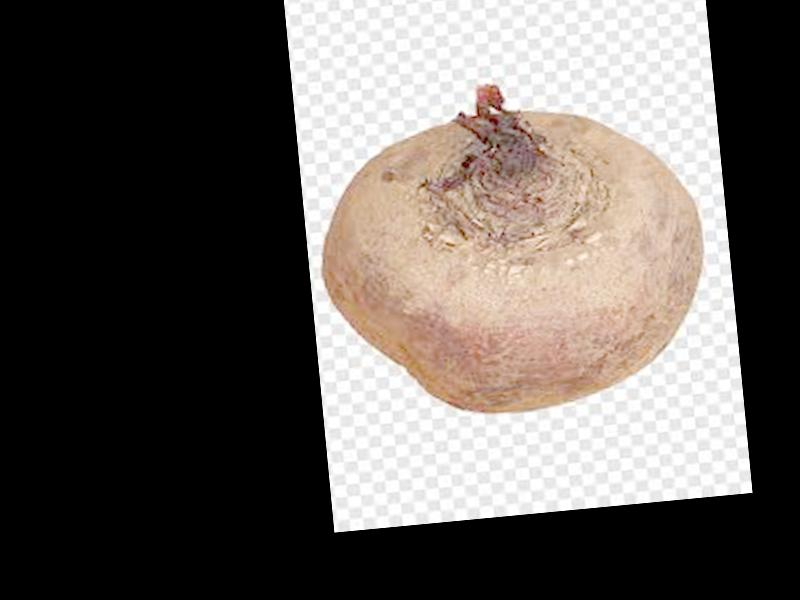Beet: (309, 64, 714, 427)
